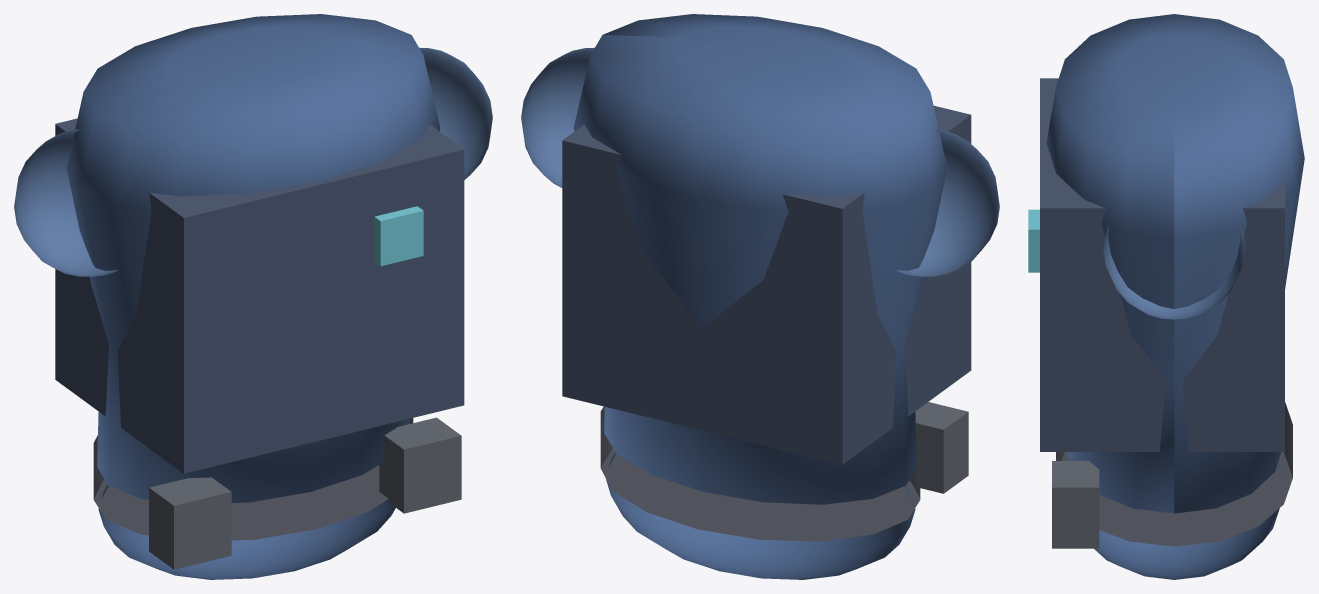
The model's file is police_torso_m2.glb.
The picture shows the model from 3 angles, left to right: view 1: azimuth 30°, elevation 25°; view 2: azimuth 150°, elevation 25°; view 3: azimuth 270°, elevation 25°; orthographic projection. The views are drawn at different scales.
Parts seen in each view (by area): view 1: police_torso; view 2: police_torso; view 3: police_torso.
Boxes of the visible parts, x1=… form: police_torso: x1=14, y1=14, x2=492, y2=579; police_torso: x1=521, y1=14, x2=999, y2=579; police_torso: x1=1028, y1=14, x2=1304, y2=579.
Bounding box in the file's own units: 0.64 × 0.67 × 0.35.
